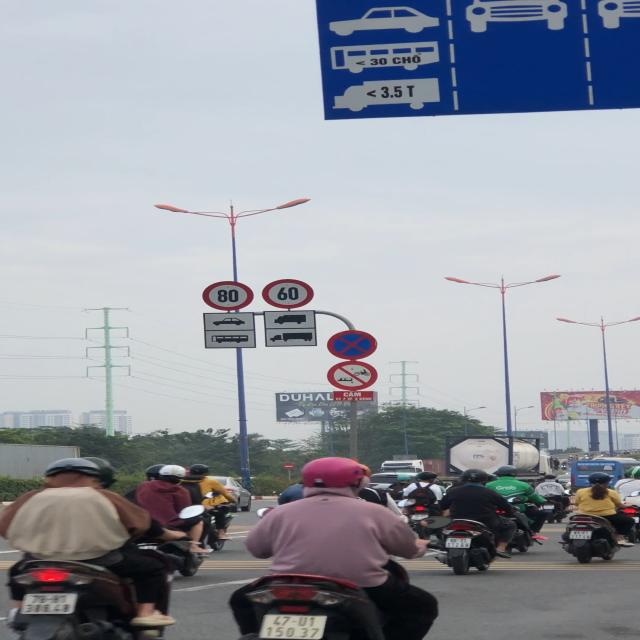Bien bao cam dung xe va do xe: (325, 330, 379, 362)
Bien bao toc do toi da cho phep: (260, 278, 314, 309), (202, 280, 255, 311)
